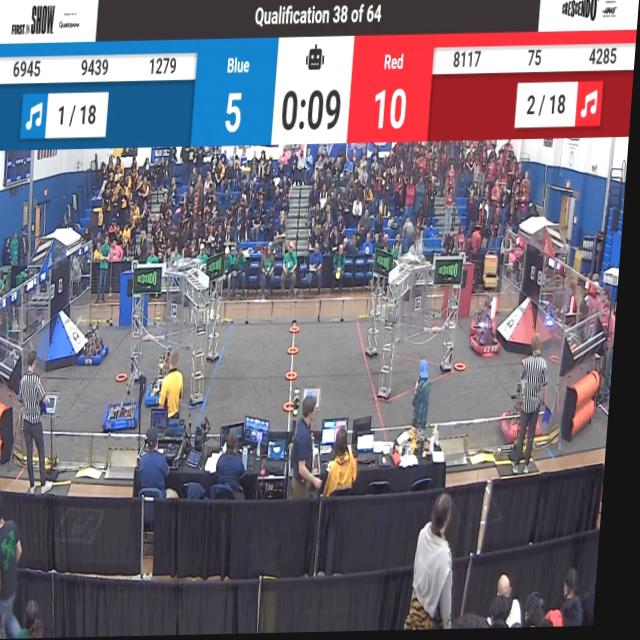Robot: (505, 346, 559, 450), (109, 352, 154, 440), (472, 300, 510, 366), (149, 339, 179, 410), (472, 288, 509, 342), (80, 319, 115, 370)
